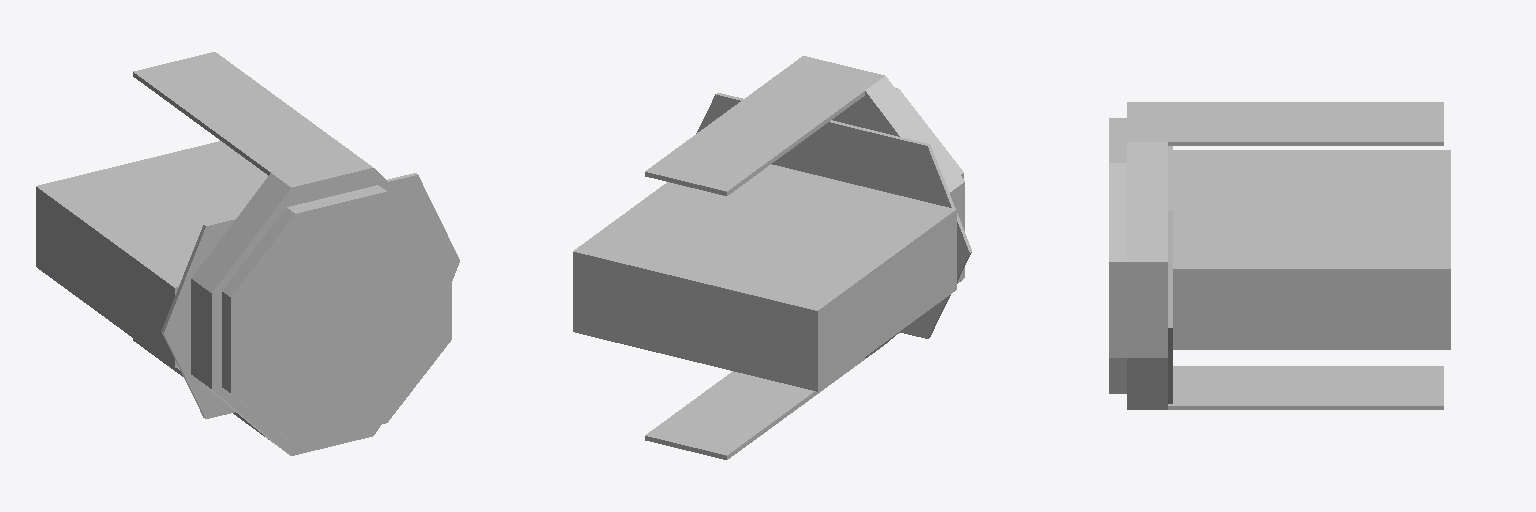
The model's file is caster_L.obj.
The picture shows the model from 3 angles: view 1: azimuth 30°, elevation 25°; view 2: azimuth 150°, elevation 25°; view 3: azimuth 270°, elevation 25°; orthographic projection.
Size of the model in its own units: 0.2 by 0.1731 by 0.1995.